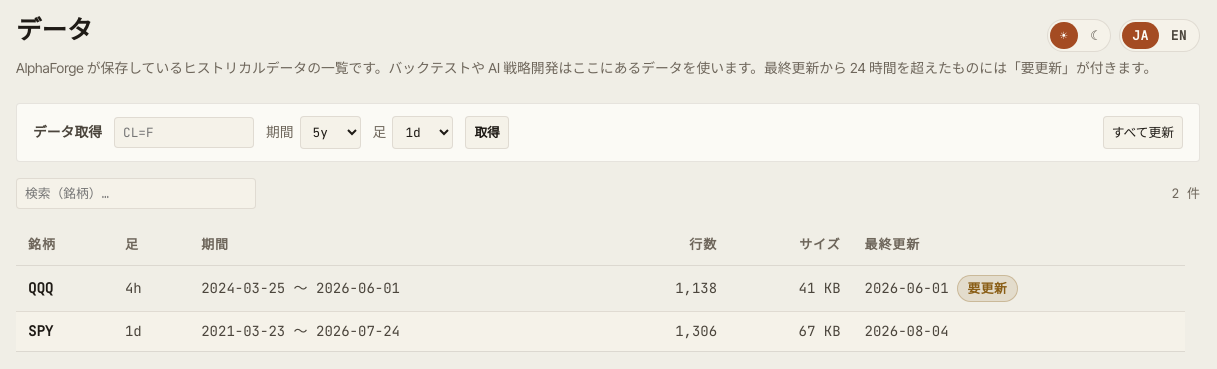
DataPage (issue #484) › 銘柄で検索絞り込みでき、絞り込み件数が見える
Expected: the text "SPY" is shown, top-left (16, 311), bottom-right (113, 351)
Type "qqq" into the field labelled "検索（銘柄）…".
click(136, 194); type("qqq")  # box top-left (16, 178), bottom-right (256, 209)
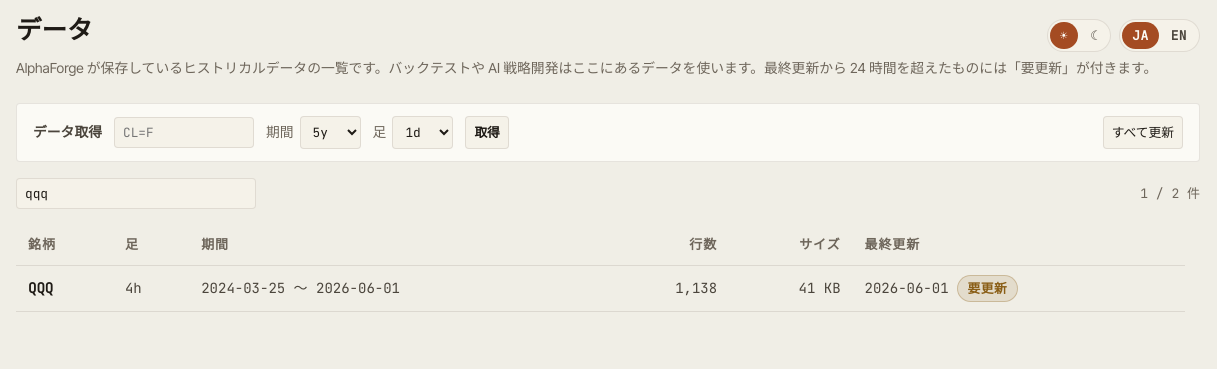
Expected: the text "QQQ" is shown, top-left (16, 265), bottom-right (113, 311)
Expected: the text "SPY" is gone
Expected: the text "1 / 2 件" is shown, top-left (1140, 184), bottom-right (1200, 203)
